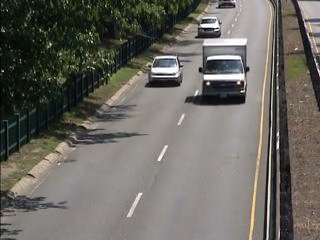car: (147, 53, 186, 89), (195, 15, 222, 40)
truck: (199, 37, 250, 103)
